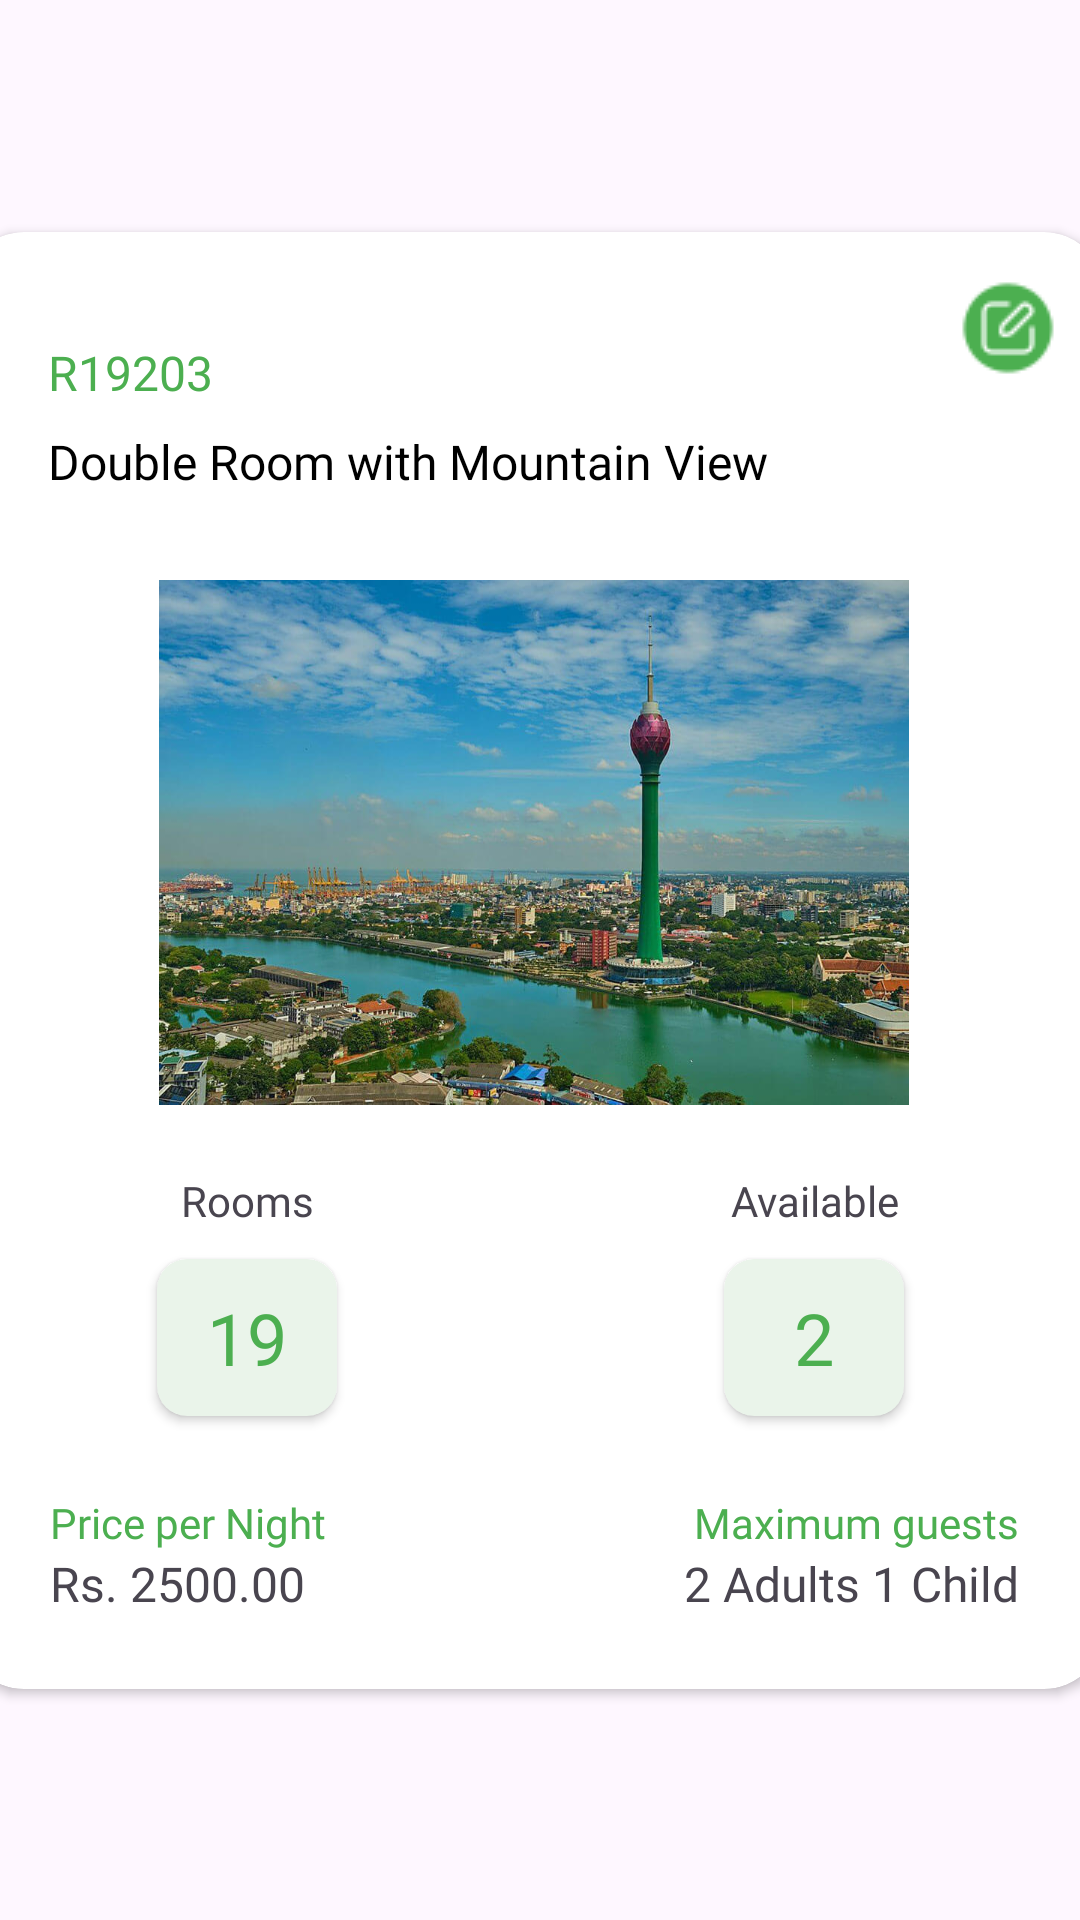

Icon click points for this 1080 × 1920 phone screenshot, format (x=x, y=y):
edit: (x=1008, y=328)
